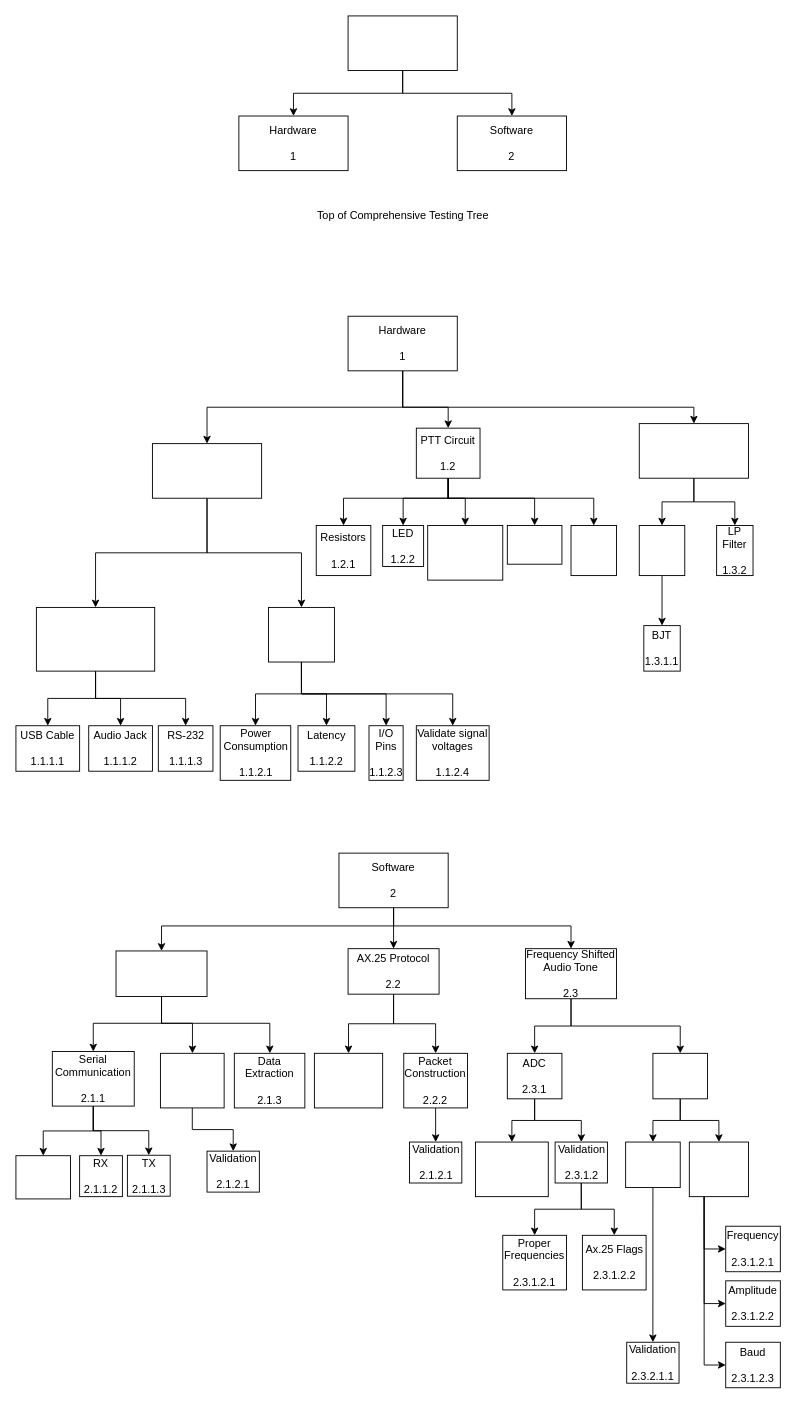
The diagram is 796 pixels wide and 1404 high, and some of its shapes have lost their labels. Here are the shapes that lost their labels. From the top down, the centre of each, then its label:
At [402,43]: "MCU Terminal Node Controller".
At [207,470]: "Micro Controller Functionality 1.1".
At [693,450]: "Audio Input Circuit 1.3".
At [465,552]: "Power Consumption 1.2.3".
At [534,544]: "MOSFET 1.2.4".
At [593,550]: "Voltage Input 1.2.5".
At [661,550]: "Amplifier 1.3.1".
At [95,639]: "Signal Reception/Transmission Lines 1.1.1".
At [301,634]: "Signal Processing 1.1.2".
At [161,973]: "KISS Packet 2.1".
At [192,1080]: "Packet Construction 2.1.2".
At [348,1080]: "Error Checking 2.2.1".
At [680,1075]: "DAC 2.3.2".
At [43,1177]: "Latency 2.1.1.1".
At [511,1169]: "Analog Signal Reception 2.3.1.1".
At [652,1164]: "Bit Stream 2.3.2.1".
At [718,1169]: "Signal Production 2.3.1.2".
